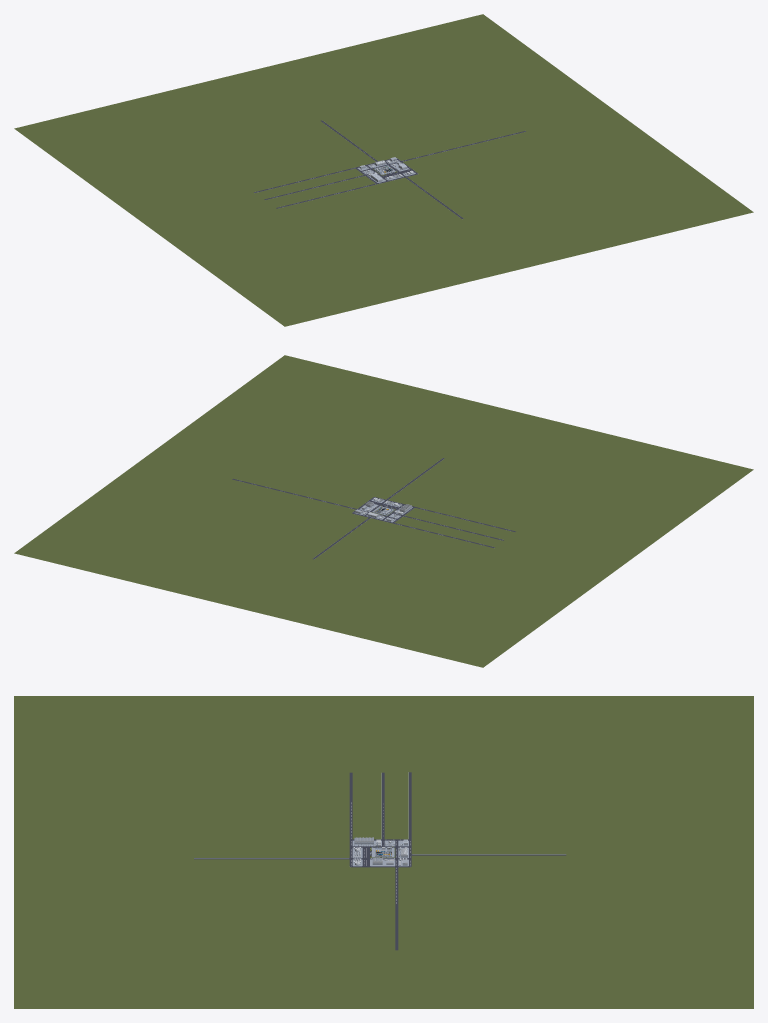
Rendered from scene_delta.glb.
The picture shows the model from 3 angles, top to bottom: view 1: azimuth 30°, elevation 25°; view 2: azimuth 150°, elevation 25°; view 3: azimuth 270°, elevation 25°; orthographic projection. The views are drawn at different scales.
Visible parts, largest first — view 1: Plane, road_cross_intersection.003; view 2: Plane, road_cross_intersection.003; view 3: Plane, road_cross_intersection.003.
Boxes of the visible parts, x1,y1,x2,y2 form: Plane: (14, 14, 753, 326); road_cross_intersection.003: (254, 120, 525, 218); Plane: (14, 355, 753, 667); road_cross_intersection.003: (232, 458, 515, 559); Plane: (14, 696, 753, 1008); road_cross_intersection.003: (194, 772, 566, 950).
Size of the model in its own units: 940 by 10.52 by 940.
6 materials, 4 textured.
